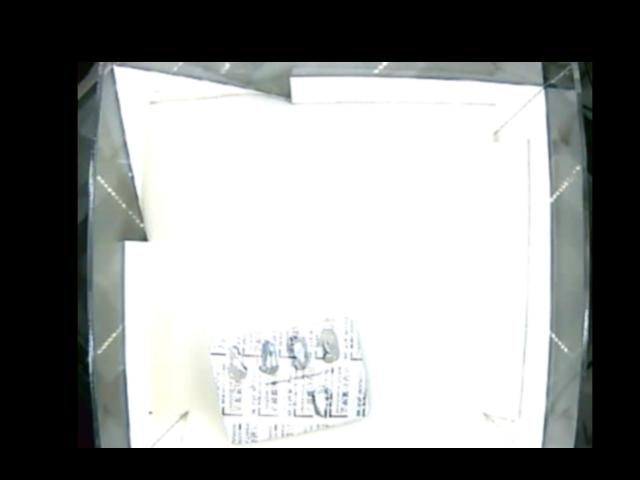Medicine: (211, 318, 370, 444)
